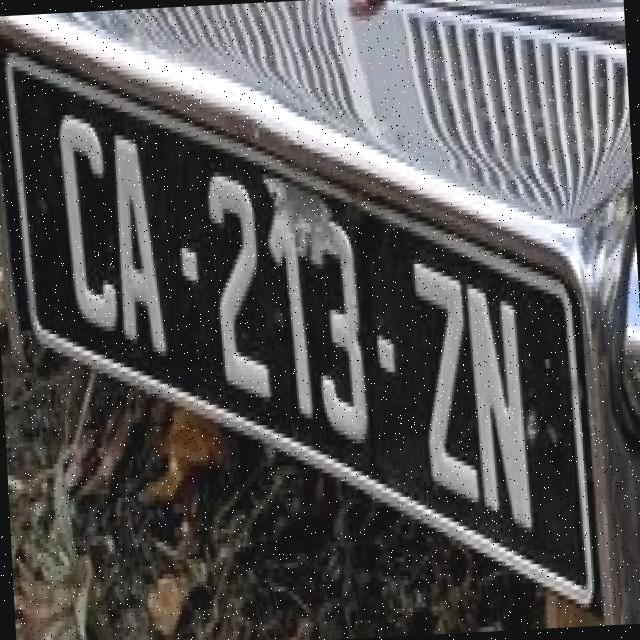Autre: (7, 72, 585, 589)
